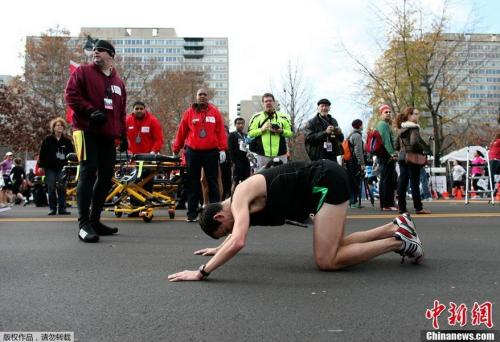10+: (1, 31, 500, 286)
down: (166, 155, 427, 285)
